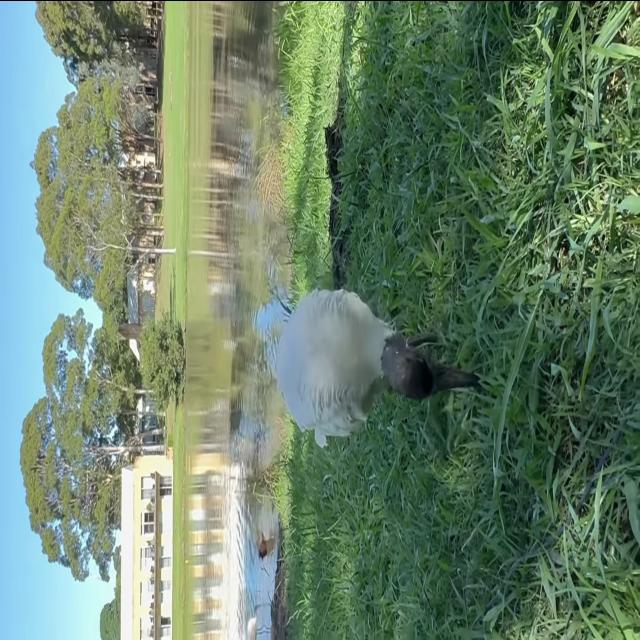Birds-Ibis: (270, 278, 488, 452), (240, 599, 278, 640)
Birds-Other: (254, 525, 274, 565)
